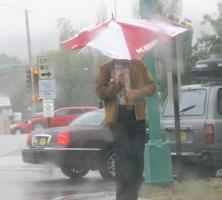person: (95, 58, 156, 200)
